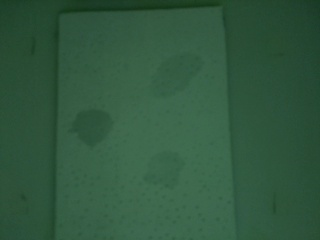Water_detected: (156, 47, 194, 88), (150, 150, 186, 187), (80, 114, 116, 144)
